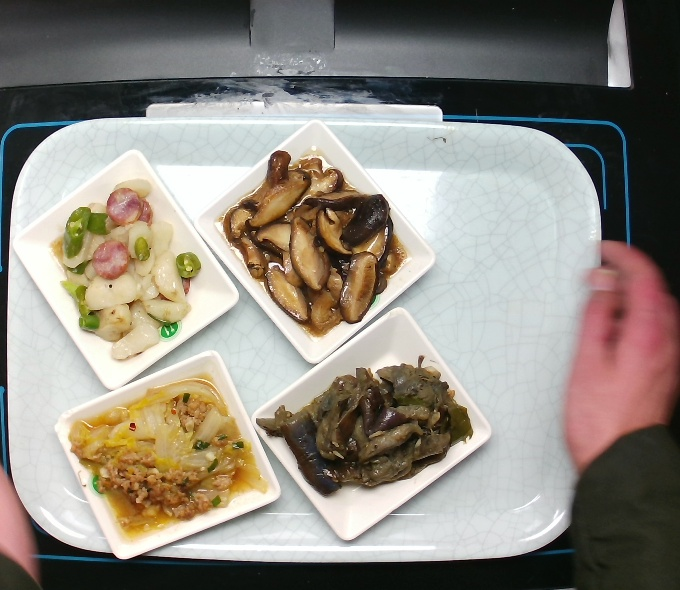wcq-MaTiGuo: (41, 171, 211, 368)
wcq-MoGu: (220, 149, 414, 336)
wcq-QieZi: (251, 353, 482, 497)
wcq-RouMoBaiCai: (67, 373, 270, 539)
